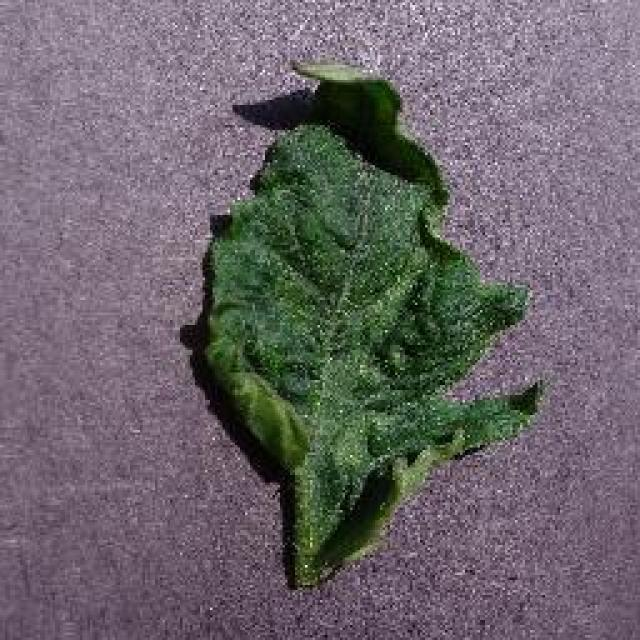Tomato spider mites leaf: (198, 58, 550, 588)
